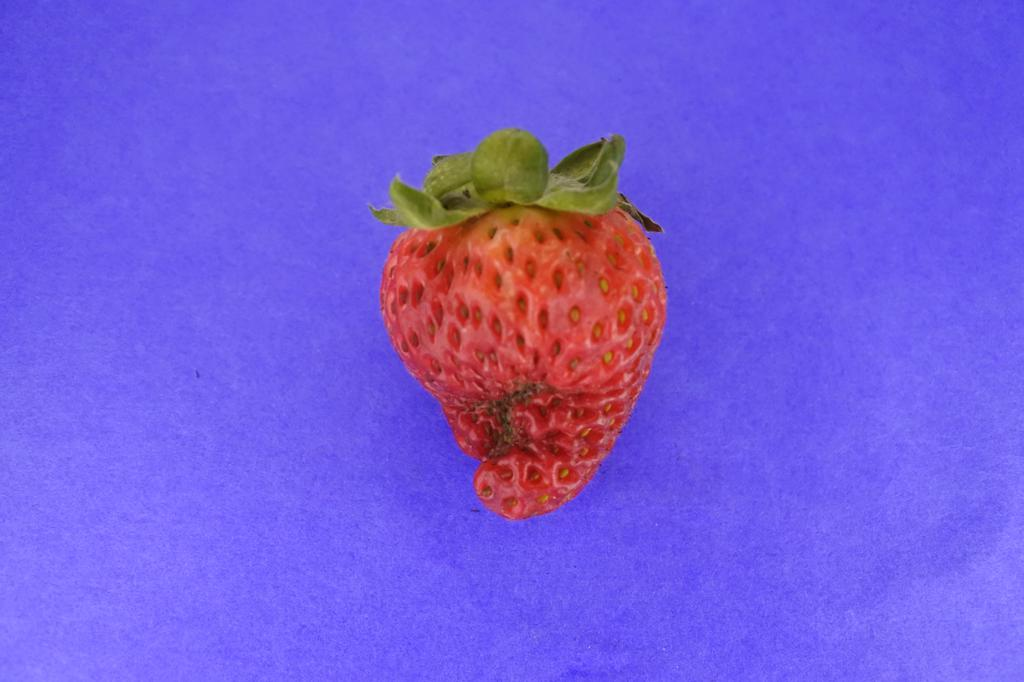red strawberry: (370, 128, 670, 520)
